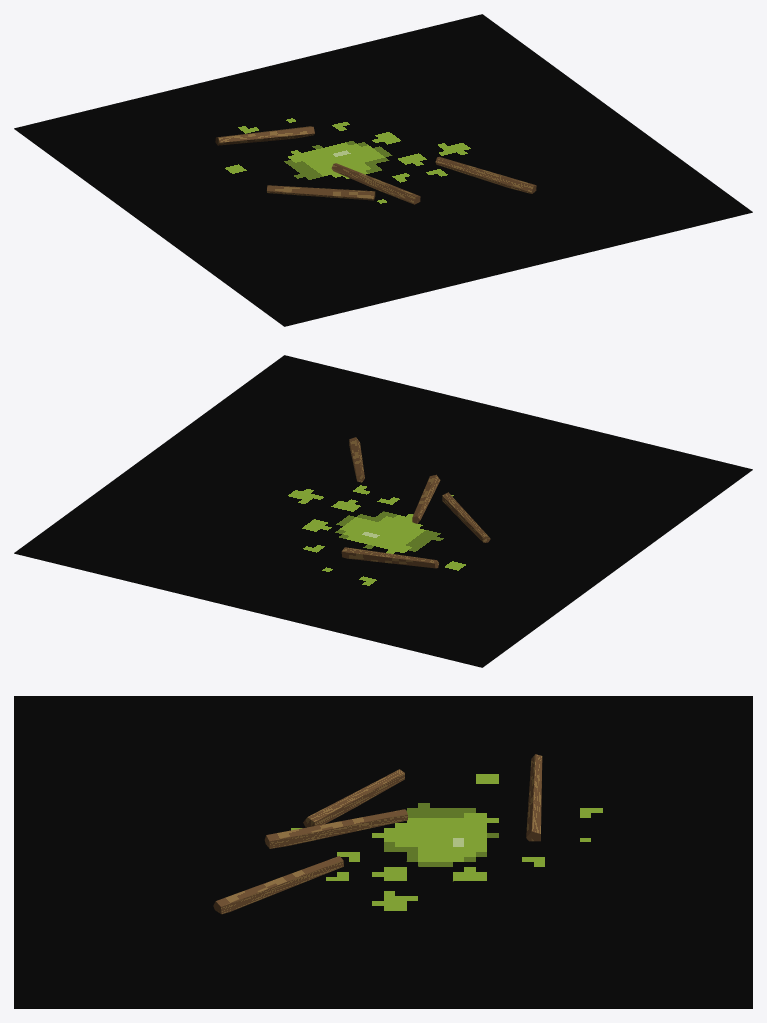
File: fd_gibs_veggy__2.glb
3 views of the same model, one above another, from view 1: azimuth 30°, elevation 25°; view 2: azimuth 150°, elevation 25°; view 3: azimuth 270°, elevation 25° (orthographic). The views are drawn at different scales.
Visible parts, largest first — view 1: block_sap, block_twig (×4); view 2: block_sap, block_twig (×3); view 3: block_sap, block_twig (×4).
Boxes of the visible parts, bbox=[...] form: block_sap: bbox=[14, 14, 752, 326]; block_twig (×4): bbox=[215, 126, 536, 204]; block_sap: bbox=[14, 355, 752, 667]; block_twig (×3): bbox=[341, 474, 490, 568]; block_sap: bbox=[14, 696, 752, 1008]; block_twig (×4): bbox=[213, 754, 542, 914].
Bounding box in the file's own units: 1 × 0.0436 × 1.
Materials: 2 (2 with a texture image).
